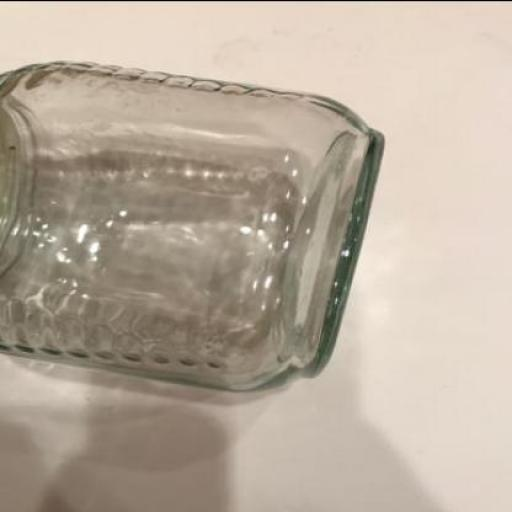glass: (2, 59, 386, 391)
